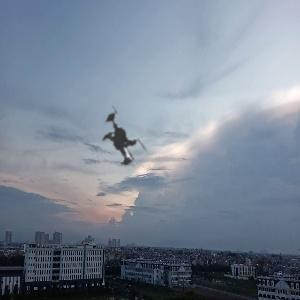drone: (64, 90, 172, 198)
